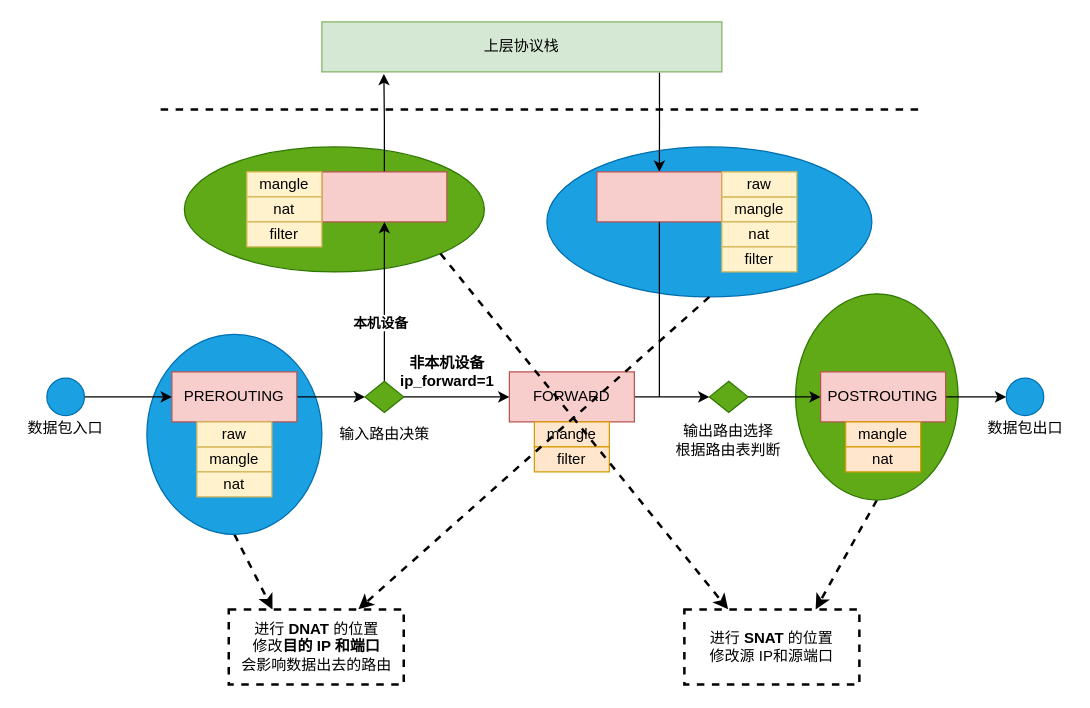
This 1090x708 diagram has some shape labels left out. Each missing label, with the centre of its shape:
"INPUT" belongs at [384,196].
"OUTPUT" belongs at [659,196].
